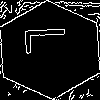L: (25, 25, 77, 55)
